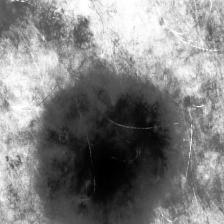Benign Marking or Mole: (41, 79, 174, 224)
